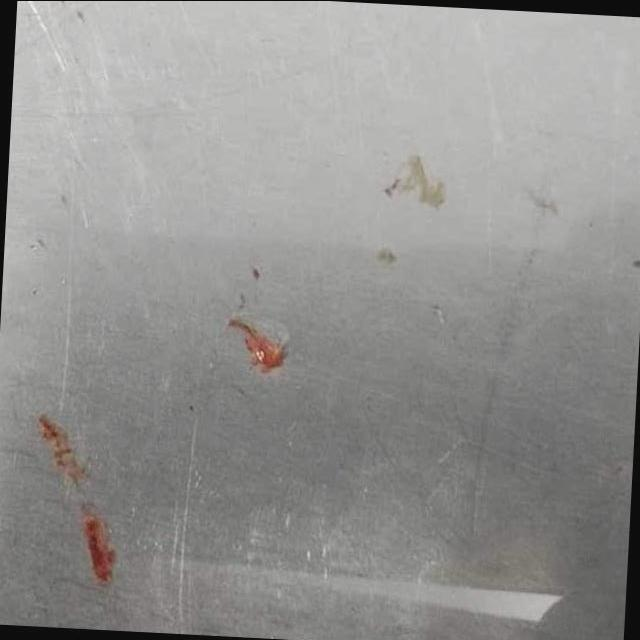General: (0, 0, 639, 639), (29, 146, 458, 590)
Sharps: (224, 315, 289, 372)
